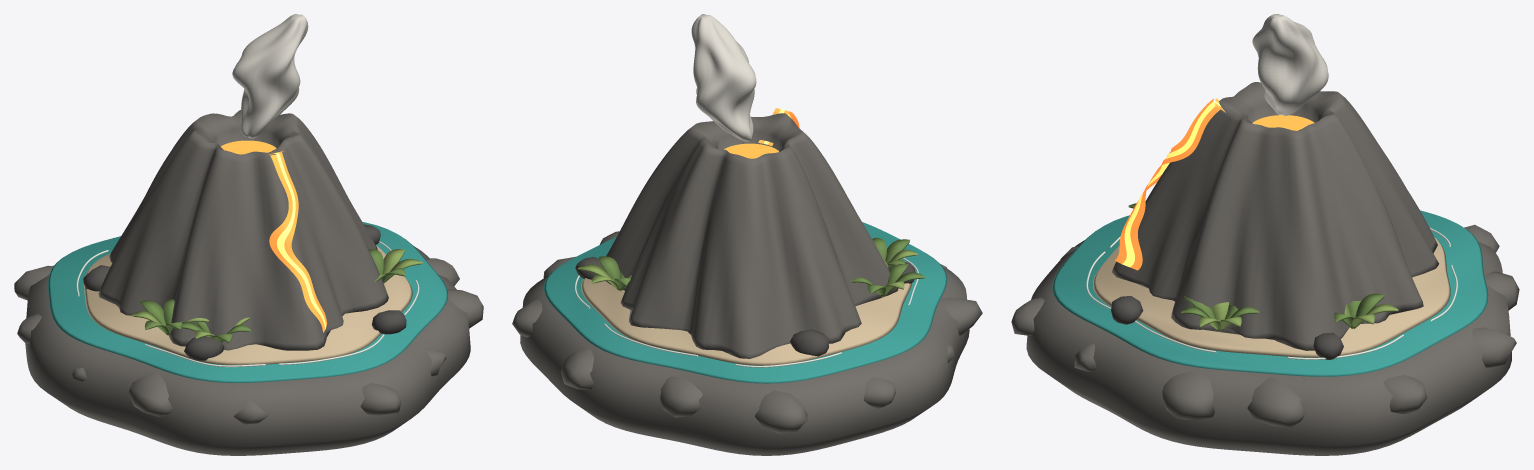
Rendered from volcano-island-v3.fbx.
The picture shows the model from 3 angles, left to right: view 1: azimuth 30°, elevation 25°; view 2: azimuth 150°, elevation 25°; view 3: azimuth 270°, elevation 25°; orthographic projection. The views are drawn at different scales.
Parts seen in each view (by area): view 1: Volcano | hollow fluted mountain, Rock | irregular island foundation, Water | enclosed turquoise lagoon, Sand | island shore, Smoke | blended plume, Lava | continuous winding flow, Rock | shoreline boulder.007, Rock | shoreline boulder.009, Rock | shoreline boulder.011, Rock | beach stone, Rock | beach stone.001, Rock | shoreline boulder.004 (+2 smaller); view 2: Volcano | hollow fluted mountain, Rock | irregular island foundation, Water | enclosed turquoise lagoon, Sand | island shore, Smoke | blended plume, Rock | shoreline boulder.004, Rock | shoreline boulder.003, Rock | shoreline boulder.002, Rock | shoreline boulder.007, Rock | beach stone.003, Rock | shoreline boulder.005, Rock | shoreline boulder.001 (+1 smaller); view 3: Volcano | hollow fluted mountain, Rock | irregular island foundation, Water | enclosed turquoise lagoon, Sand | island shore, Smoke | blended plume, Lava | continuous winding flow, Rock | shoreline boulder.011, Rock | shoreline boulder, Rock | shoreline boulder.001, Rock | shoreline boulder.002, Rock | shoreline boulder.009, Rock | shoreline boulder.003 (+3 smaller).
Part boxes in pixels (x1,y1,x2,y2): Volcano | hollow fluted mountain: [98, 110, 388, 350]; Rock | irregular island foundation: [25, 246, 470, 455]; Water | enclosed turquoise lagoon: [48, 222, 447, 382]; Sand | island shore: [84, 245, 412, 365]; Smoke | blended plume: [232, 14, 308, 138]; Lava | continuous winding flow: [269, 151, 327, 332]; Rock | shoreline boulder.007: [129, 372, 172, 416]; Rock | shoreline boulder.009: [360, 383, 401, 415]; Rock | shoreline boulder.011: [447, 289, 483, 328]; Rock | beach stone: [184, 336, 224, 360]; Rock | beach stone.001: [371, 310, 406, 334]; Rock | shoreline boulder.004: [14, 265, 53, 300]; Volcano | hollow fluted mountain: [606, 113, 898, 358]; Rock | irregular island foundation: [520, 267, 969, 455]; Water | enclosed turquoise lagoon: [544, 222, 947, 383]; Sand | island shore: [581, 278, 911, 365]; Smoke | blended plume: [691, 14, 756, 141]; Rock | shoreline boulder.004: [754, 390, 807, 433]; Rock | shoreline boulder.003: [660, 376, 702, 417]; Rock | shoreline boulder.002: [560, 349, 594, 390]; Rock | shoreline boulder.007: [940, 297, 982, 335]; Rock | beach stone.003: [790, 329, 828, 356]; Rock | shoreline boulder.005: [863, 377, 895, 408]; Rock | shoreline boulder.001: [512, 299, 542, 337]; Volcano | hollow fluted mountain: [1112, 82, 1438, 350]; Rock | irregular island foundation: [1026, 240, 1511, 455]; Water | enclosed turquoise lagoon: [1052, 210, 1488, 376]; Sand | island shore: [1093, 237, 1450, 357]; Smoke | blended plume: [1252, 14, 1328, 115]; Lava | continuous winding flow: [1115, 98, 1221, 270]; Rock | shoreline boulder.011: [1162, 371, 1214, 420]; Rock | shoreline boulder: [1247, 377, 1305, 427]; Rock | shoreline boulder.001: [1383, 375, 1427, 413]; Rock | shoreline boulder.002: [1472, 327, 1516, 367]; Rock | shoreline boulder.009: [1011, 297, 1044, 335]; Rock | shoreline boulder.003: [1485, 271, 1519, 310].
Size of the model in its own units: 163 by 136 by 164.
